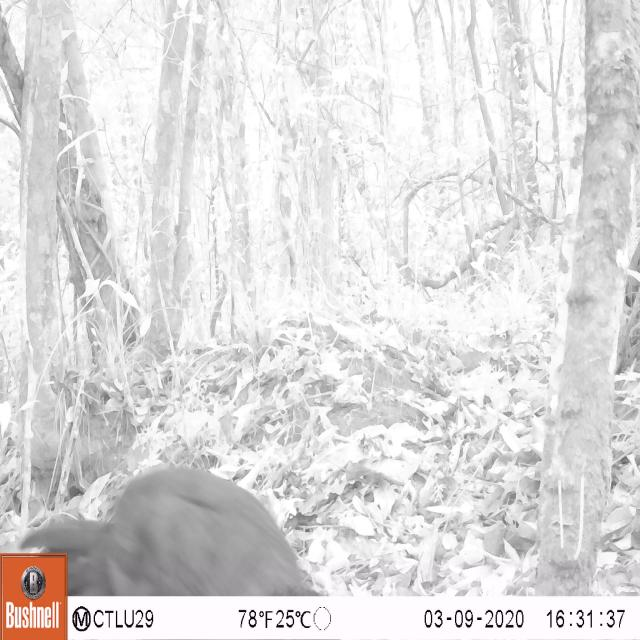Salvins Curassow: (0, 445, 335, 594)
